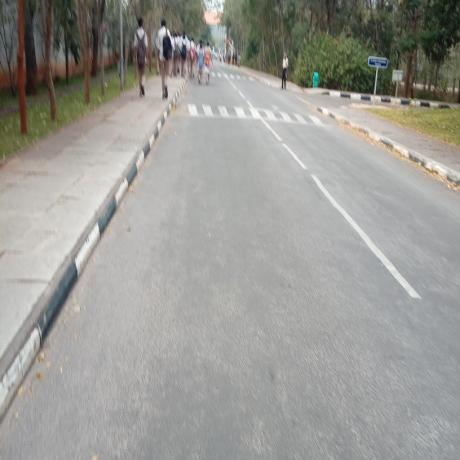Speed Bump: (174, 105, 332, 125)
